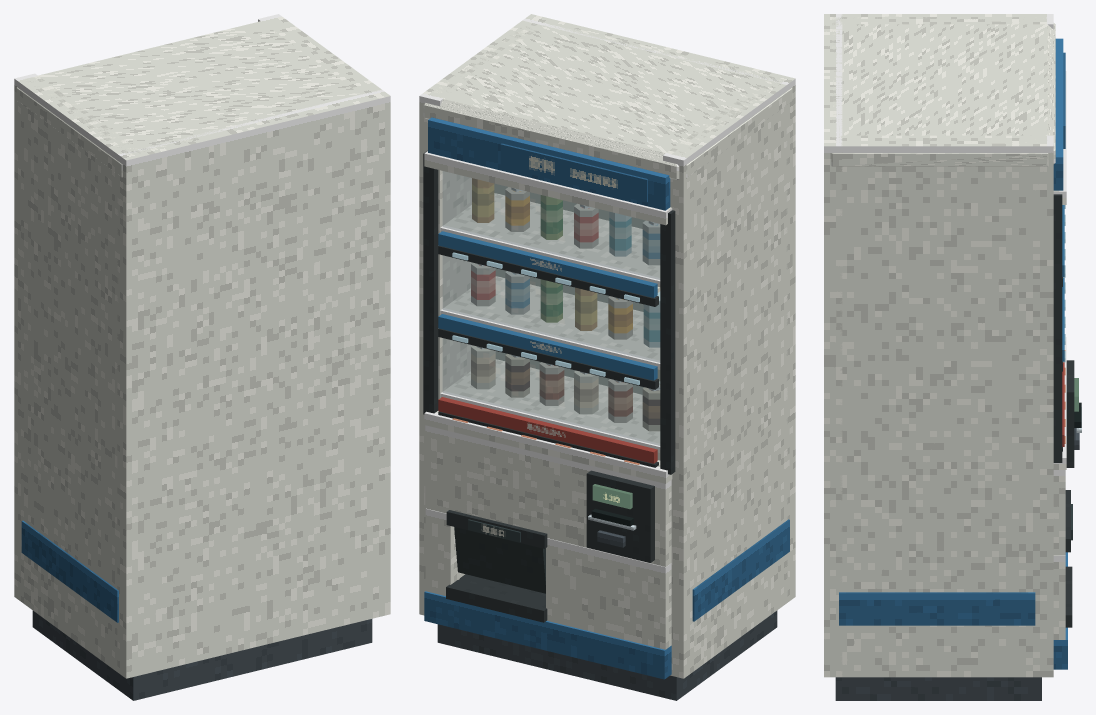
The model's file is f_vending_c.glb.
The picture shows the model from 3 angles, left to right: view 1: azimuth 30°, elevation 25°; view 2: azimuth 150°, elevation 25°; view 3: azimuth 270°, elevation 25°; orthographic projection. The views are drawn at different scales.
Parts seen in each view (by area): view 1: block_enamel-back, block_enamel-side (×2), block_rounded-enamel-cap, block_recessed-kickplate, block_painted-side-stripe; view 2: block_enamel-side (×2), block_sample-glazing (×3), block_rounded-enamel-cap, block_lower-service-panel, block_right-lower-return, block_display-rebate (×2), block_painted-bottom-band, block_enamel-back, block_recessed-kickplate, block_sample-shelf-0, block_sample-shelf-1, block_sample-shelf-2 (+38 smaller); view 3: block_enamel-side (×2), block_rounded-enamel-cap, block_enamel-back, block_painted-side-stripe, block_recessed-kickplate, block_display-rebate, block_header-colour-band, block_lower-service-panel, block_left-lower-return, block_payment-face, block_painted-bottom-band, block_retrieval-frame-bottom (+2 smaller).
Part boxes in pixels (box(x1,y1,x2,y2)): block_enamel-back: box(117, 89, 390, 678); block_enamel-side (×2): box(14, 14, 381, 671); block_rounded-enamel-cap: box(16, 21, 360, 177); block_recessed-kickplate: box(32, 610, 372, 700); block_painted-side-stripe: box(21, 520, 118, 622); block_enamel-side (×2): box(419, 20, 787, 678); block_sample-glazing (×3): box(442, 171, 660, 445); block_rounded-enamel-cap: box(423, 20, 792, 179); block_lower-service-panel: box(425, 425, 671, 566); block_right-lower-return: box(546, 538, 671, 649); block_display-rebate (×2): box(423, 150, 675, 474); block_painted-bottom-band: box(424, 591, 671, 679); block_enamel-back: box(522, 14, 795, 602); block_recessed-kickplate: box(437, 610, 777, 700); block_sample-shelf-0: box(440, 193, 660, 286); block_sample-shelf-1: box(440, 276, 660, 369); block_sample-shelf-2: box(440, 359, 660, 452); block_enamel-side (×2): box(840, 14, 1053, 677); block_rounded-enamel-cap: box(831, 17, 1055, 166); block_enamel-back: box(824, 14, 842, 677); block_painted-side-stripe: box(839, 592, 1035, 625); block_recessed-kickplate: box(835, 677, 1041, 700); block_display-rebate: box(1053, 194, 1062, 462); block_header-colour-band: box(1053, 38, 1063, 190); block_lower-service-panel: box(1053, 470, 1065, 555); block_left-lower-return: box(1053, 555, 1065, 639); block_payment-face: box(1066, 360, 1074, 467); block_painted-bottom-band: box(1053, 552, 1067, 669); block_retrieval-frame-bottom: box(1065, 566, 1072, 627).
Size of the model in its own units: 0.951 by 1.86 by 0.7745.
Materials: 3 (3 with a texture image).
